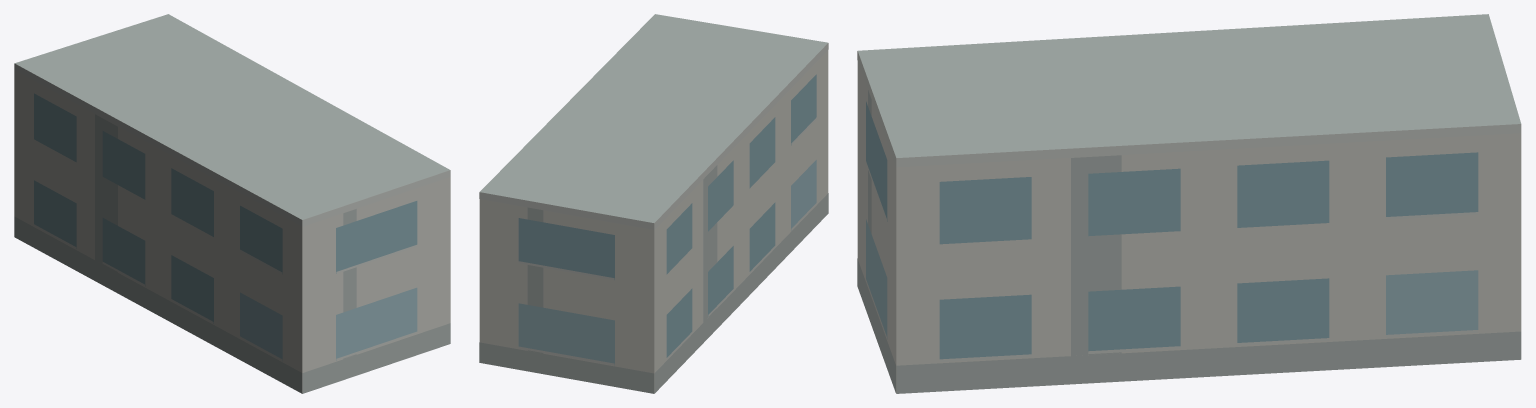
File: survey-upis-32977135.glb
3 renders of one model, left to right at view 1: azimuth 30°, elevation 25°; view 2: azimuth 150°, elevation 25°; view 3: azimuth 270°, elevation 25°, orthographic. The views are drawn at different scales.
Parts seen in each view (by area): view 1: survey-upis-32977135.tmp; view 2: survey-upis-32977135.tmp; view 3: survey-upis-32977135.tmp.
Part boxes in pixels (box(x1,y1,x2,y2)): survey-upis-32977135.tmp: box(14, 14, 450, 393); survey-upis-32977135.tmp: box(479, 14, 828, 393); survey-upis-32977135.tmp: box(857, 14, 1521, 393).
Bounding box in the file's own units: 8.01 × 6.1 × 15.58.
